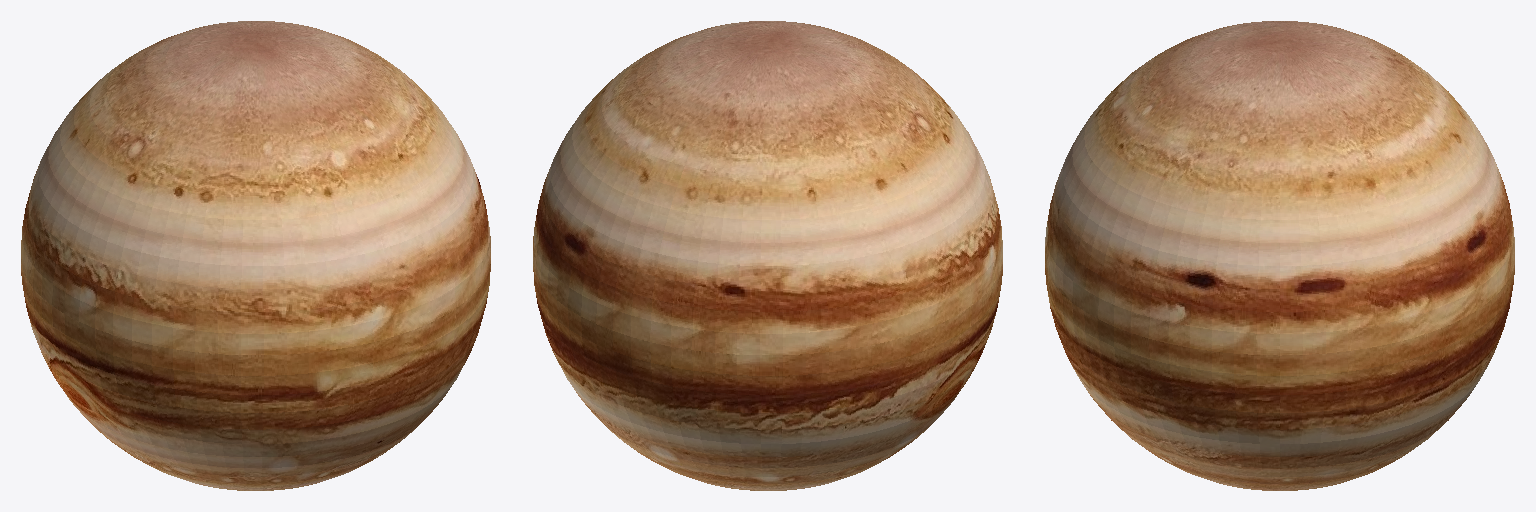
3 views of the same model, side by side, from view 1: azimuth 30°, elevation 25°; view 2: azimuth 150°, elevation 25°; view 3: azimuth 270°, elevation 25° (orthographic).
Parts seen in each view (by area): view 1: Sphere002; view 2: Sphere002; view 3: Sphere002.
Boxes of the visible parts, x1=… form: Sphere002: x1=21, y1=21, x2=490, y2=490; Sphere002: x1=533, y1=21, x2=1002, y2=490; Sphere002: x1=1045, y1=21, x2=1514, y2=490.
Bounding box in the file's own units: 100 × 100 × 100.
1 materials, 1 textured.